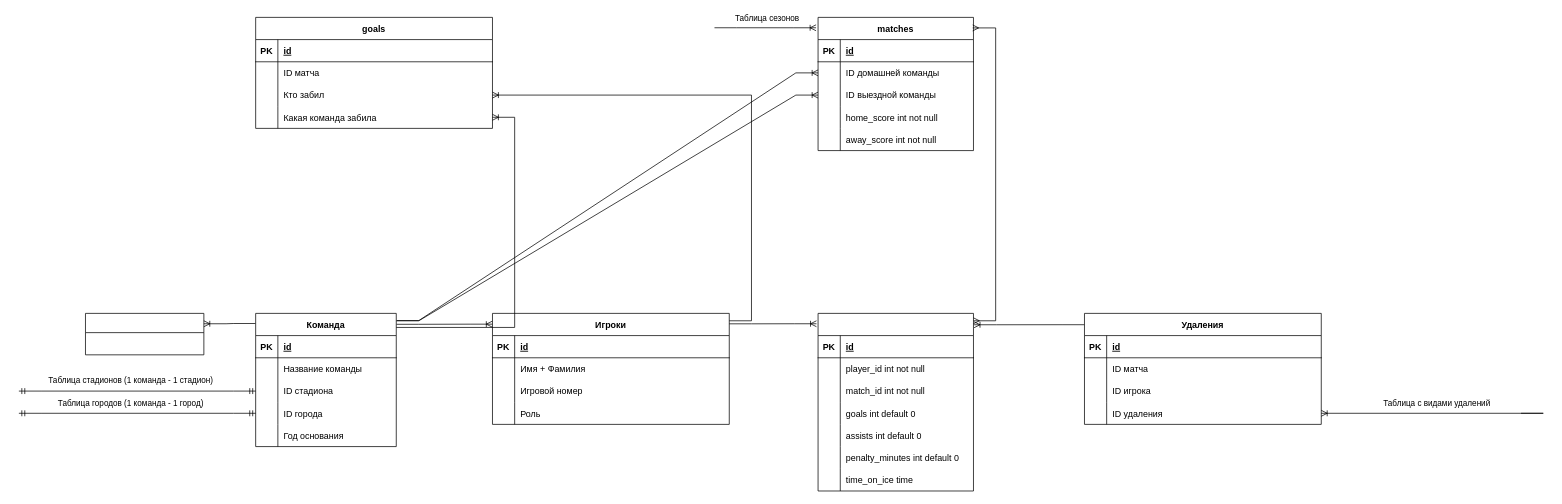
Some shapes in this 1562 by 504 pixel diagram are drawn without their labels. The box of each missing label's shape, as (x1, y1, x2, y2) in pixels:
Статистика: (817, 313, 973, 491)
Тренеры: (85, 313, 204, 355)
